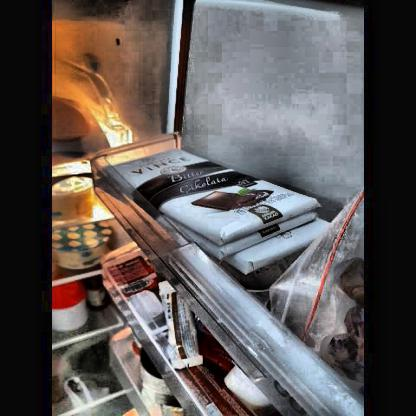chocolate: (112, 148, 323, 258)
dates: (324, 256, 366, 373)
salami: (52, 95, 97, 151)
yoghurt: (54, 225, 110, 268), (51, 179, 96, 218)
